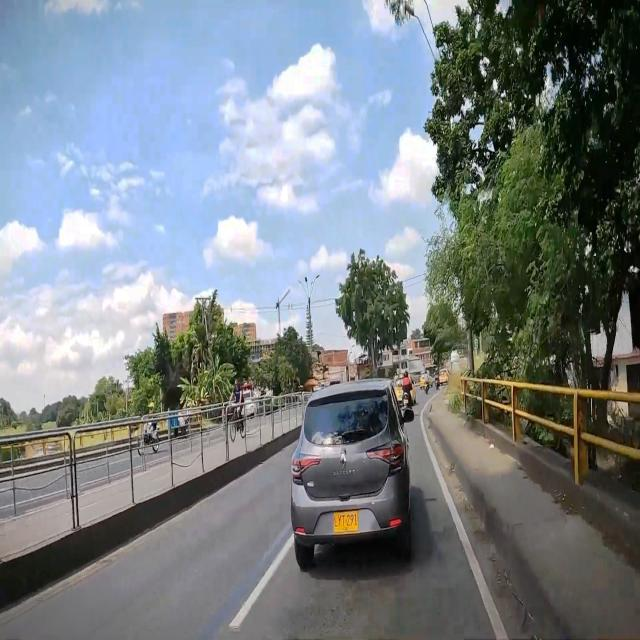license_plate: (333, 510, 359, 533)
